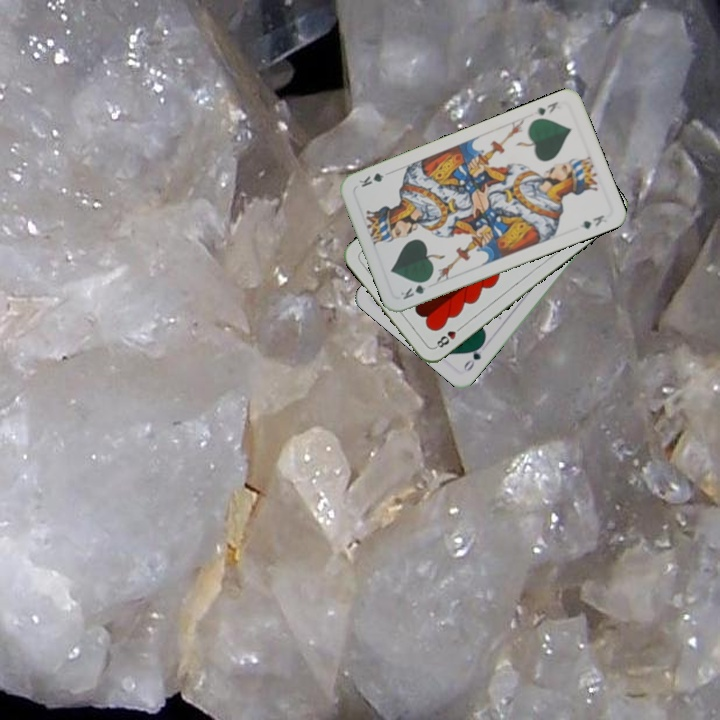GK: (396, 275, 433, 302), (532, 97, 561, 118)
GO: (459, 338, 487, 374)
H8: (431, 322, 465, 351)
